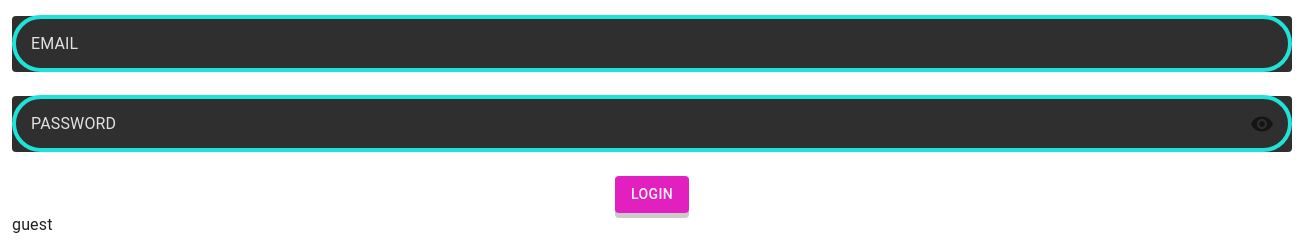
Scenario: auth integration tests › logs in with mock db user and sets auth state
Type "john@42.fr" into the field labelled "EMAIL" at (652, 44), box [12,16,1292,72]
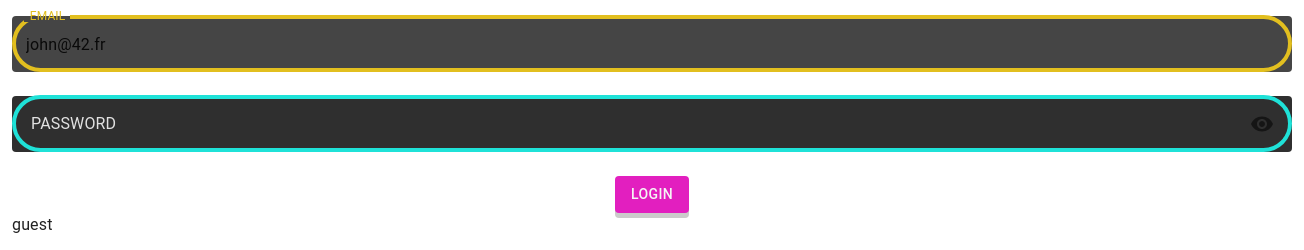
Type "secret" into the password field labelled "PASSWORD" at (623, 124), box [12,96,1234,152]
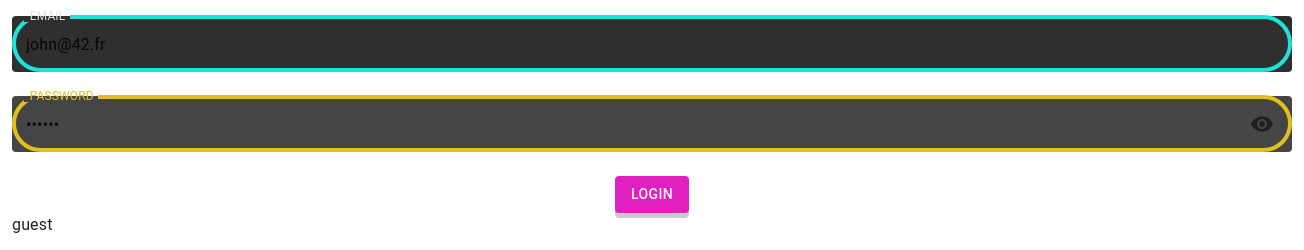
Click the button "LOGIN" at (652, 194), box [615,176,689,212]
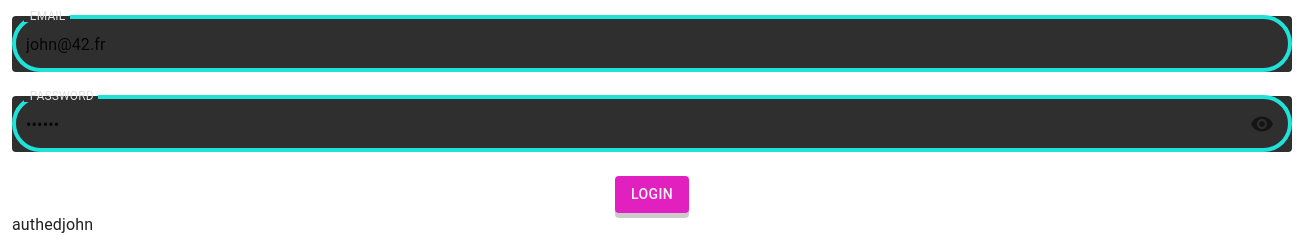
Check: the text with test id "status" reads "authed", box [12,214,62,234]
Check: the text with test id "username" reads "john", box [62,214,93,234]
